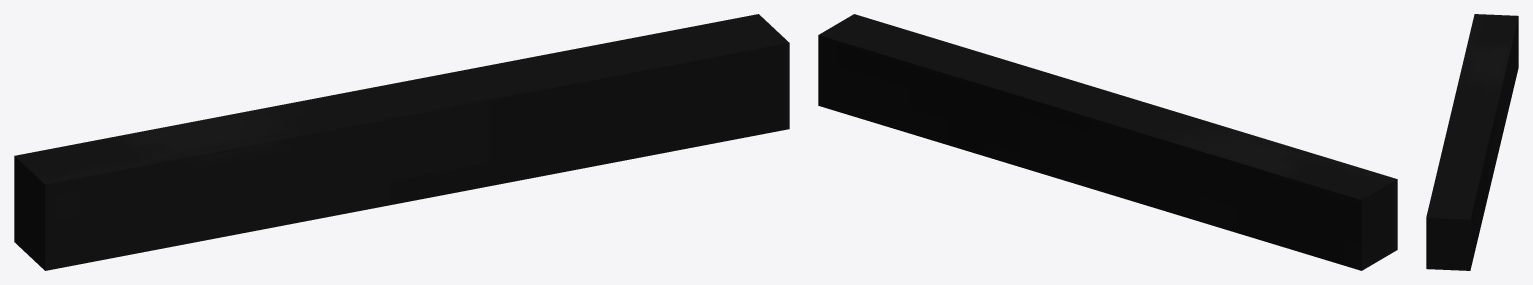
The model's file is seat__seat_rail_0.glb.
3 views of the same model, side by side, from view 1: azimuth 30°, elevation 25°; view 2: azimuth 150°, elevation 25°; view 3: azimuth 270°, elevation 25° (orthographic). The views are drawn at different scales.
Parts seen in each view (by area): view 1: world; view 2: world; view 3: world.
Part boxes in pixels (bbox=[...]): world: bbox=[14, 14, 789, 270]; world: bbox=[818, 14, 1397, 270]; world: bbox=[1426, 14, 1518, 270].
Size of the model in its own units: 0.241 by 0.028 by 0.0459.
1 material, 1 textured.
